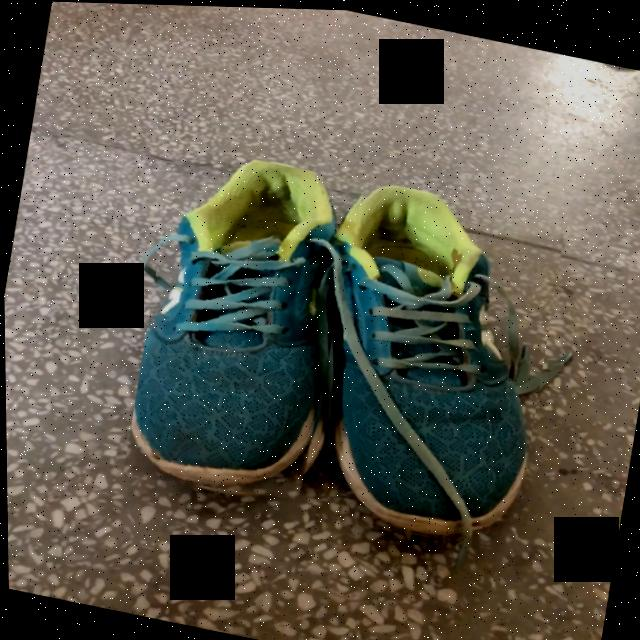shoe: (326, 184, 530, 538), (128, 159, 335, 490)
